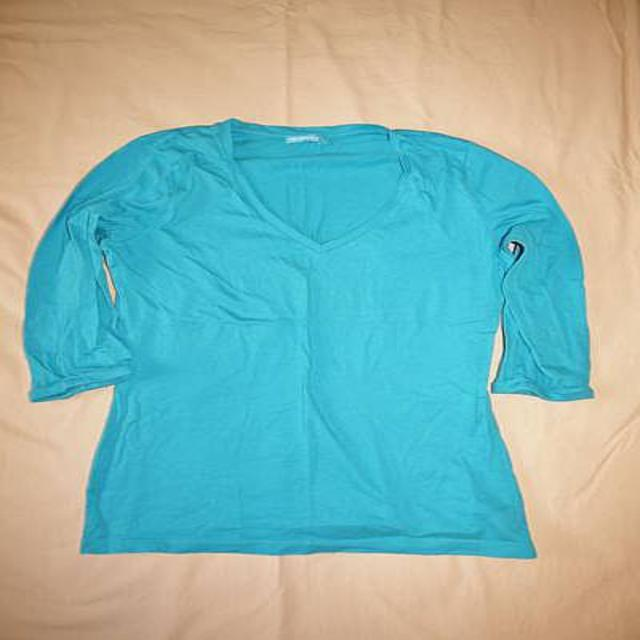SHIRT: (14, 112, 602, 566)
